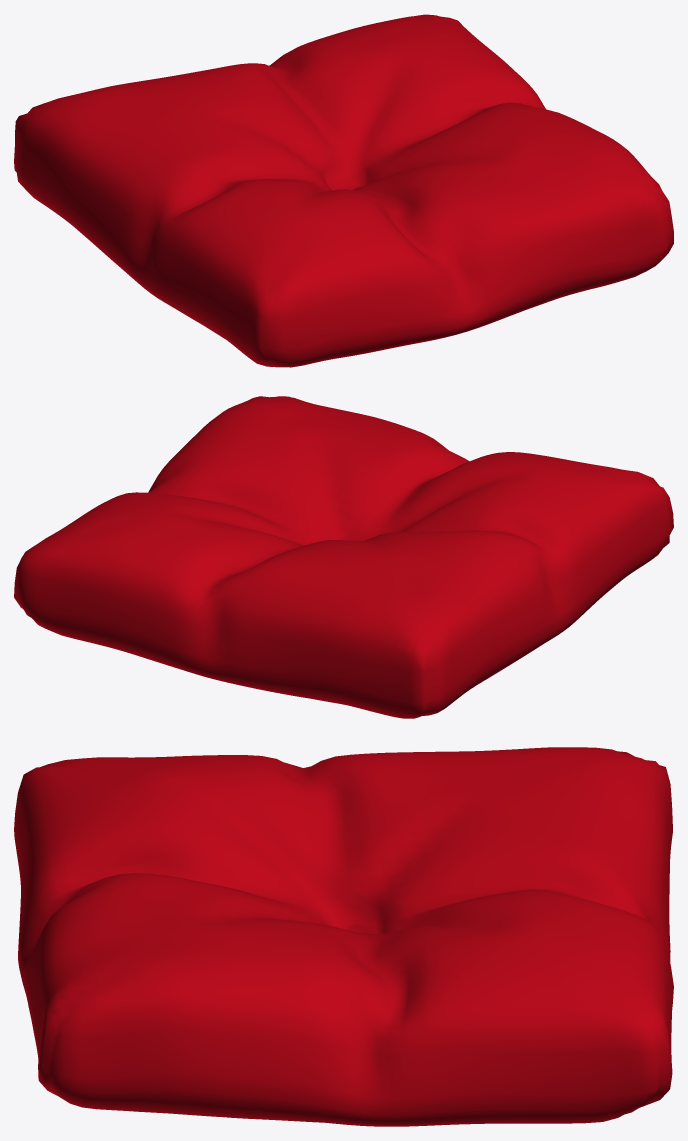
File: cushion.glb
3 views of the same model, one above another, from view 1: azimuth 30°, elevation 25°; view 2: azimuth 150°, elevation 25°; view 3: azimuth 270°, elevation 25° (orthographic). The views are drawn at different scales.
Parts seen in each view (by area): view 1: Object_2; view 2: Object_2; view 3: Object_2.
Part boxes in pixels (bbox=[...]): Object_2: bbox=[14, 14, 673, 367]; Object_2: bbox=[14, 396, 673, 718]; Object_2: bbox=[14, 747, 673, 1126].
Size of the model in its own units: 0.4654 by 0.1197 by 0.4714.
1 material, 1 textured.
